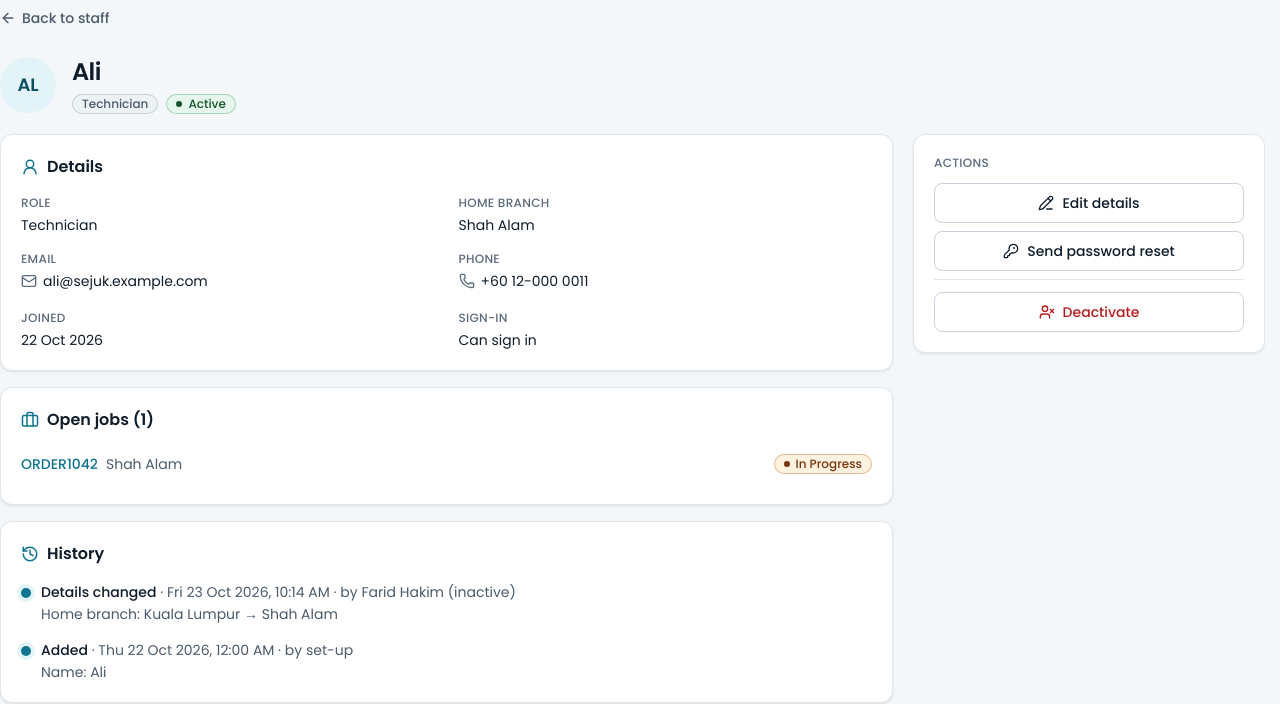
Test: Staff page › explains why deactivation is blocked and links the open jobs
Click the button "Deactivate" at (1089, 312), box [934,292,1244,332]
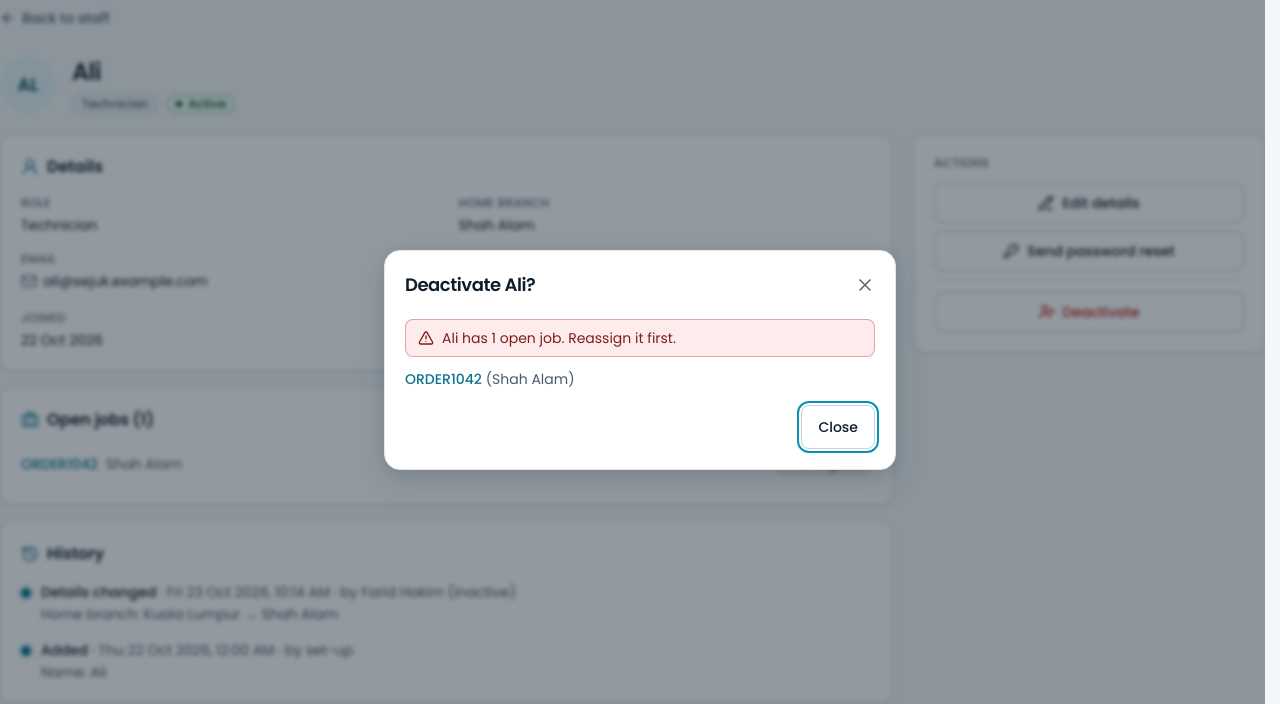
Check: the text "Ali has 1 open job. Reassign it first." is shown, box [442,328,676,348]
